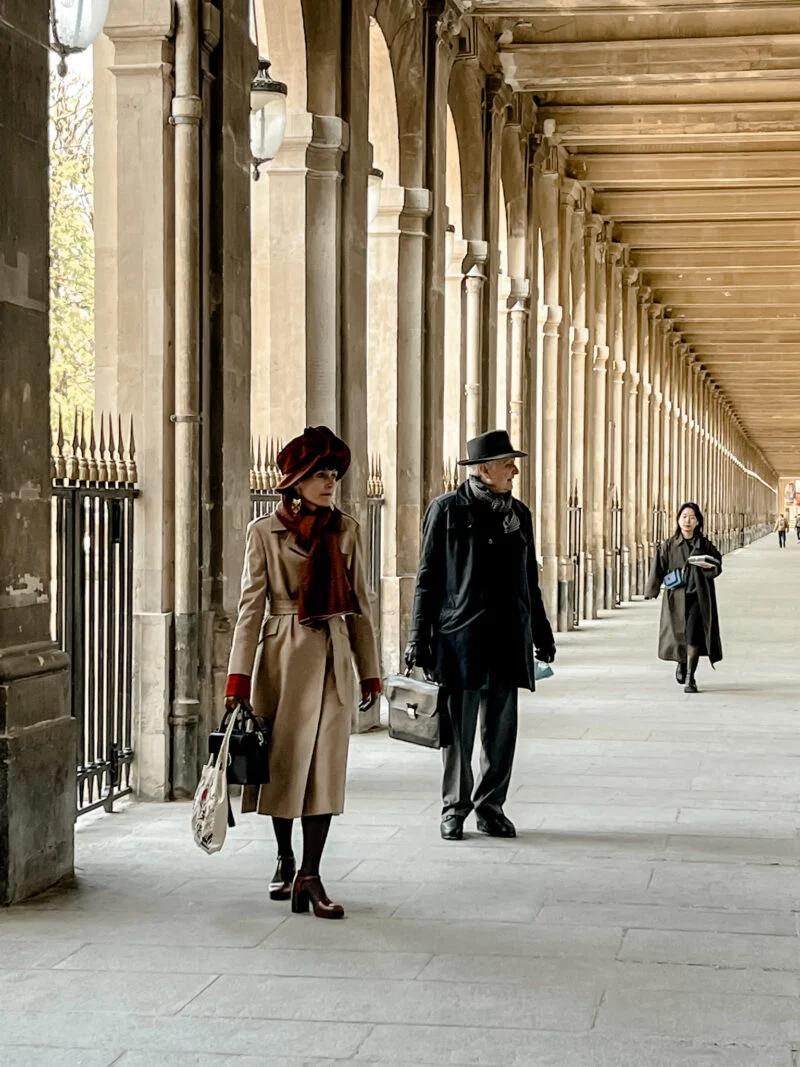person: (190, 421, 393, 944), (383, 415, 557, 854), (636, 490, 733, 700)
